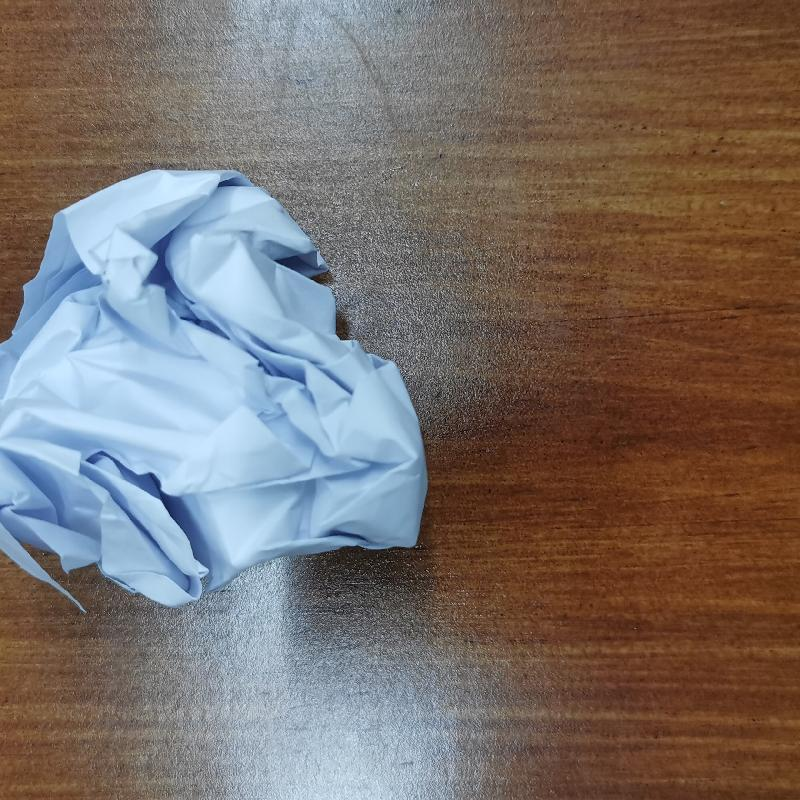spitball: (0, 163, 432, 629)
